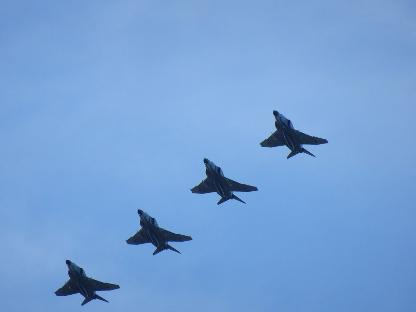F35: (260, 108, 328, 158), (54, 258, 120, 306), (190, 158, 258, 204), (126, 208, 192, 254)
